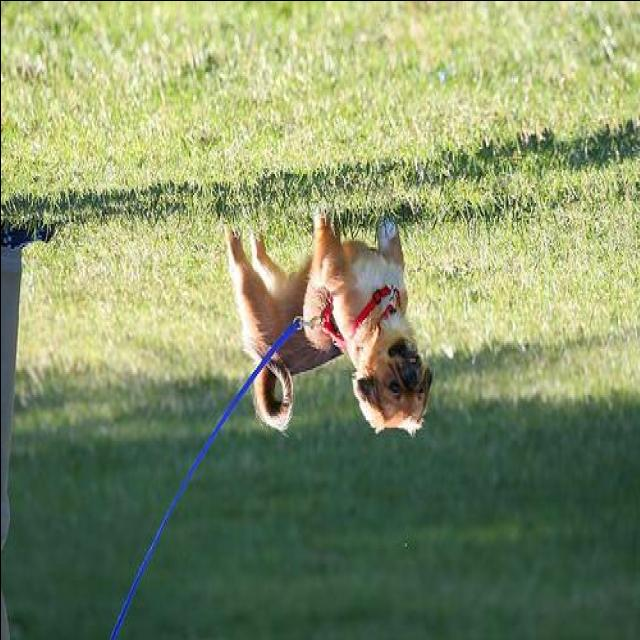pekinese: (228, 208, 434, 432)
